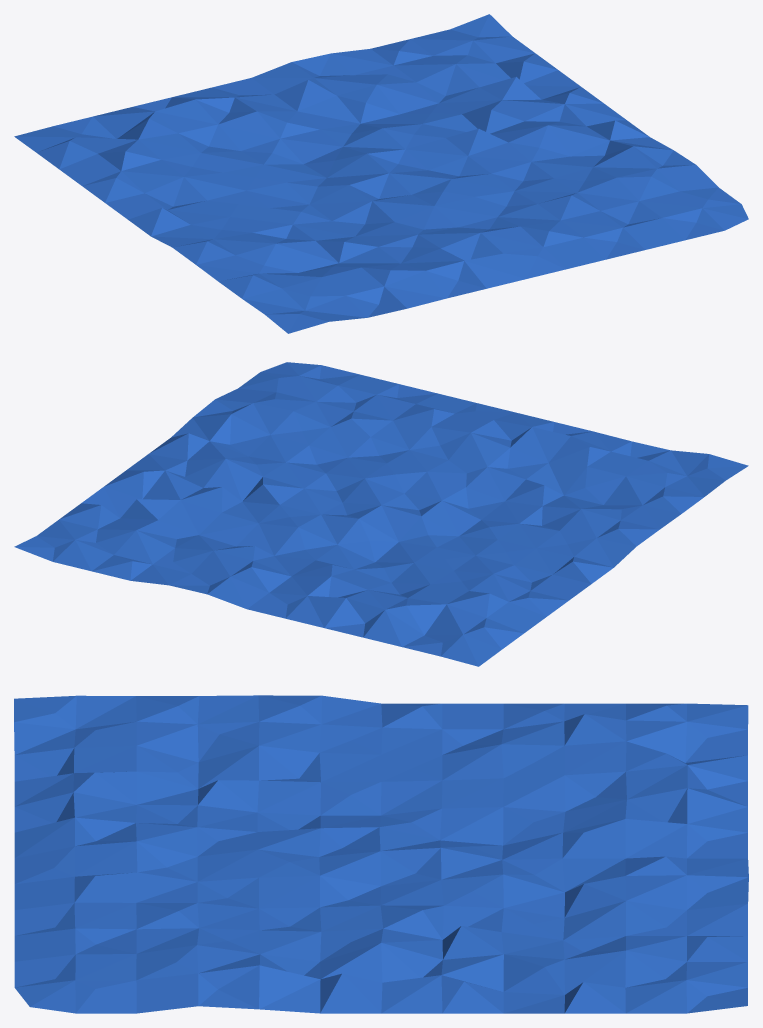
The model's file is Lake Plane 1.fbx.
3 renders of one model, top to bottom at view 1: azimuth 30°, elevation 25°; view 2: azimuth 150°, elevation 25°; view 3: azimuth 270°, elevation 25°, orthographic. The views are drawn at different scales.
Visible parts, largest first — view 1: Lake_Plane_1; view 2: Lake_Plane_1; view 3: Lake_Plane_1.
Boxes of the visible parts, box(x1,y1,x2,y2) form: Lake_Plane_1: box(14, 14, 748, 333); Lake_Plane_1: box(14, 362, 748, 666); Lake_Plane_1: box(14, 695, 748, 1013).
Size of the model in its own units: 1555 by 82.7 by 1553.
Materials: 1 (1 with a texture image).
